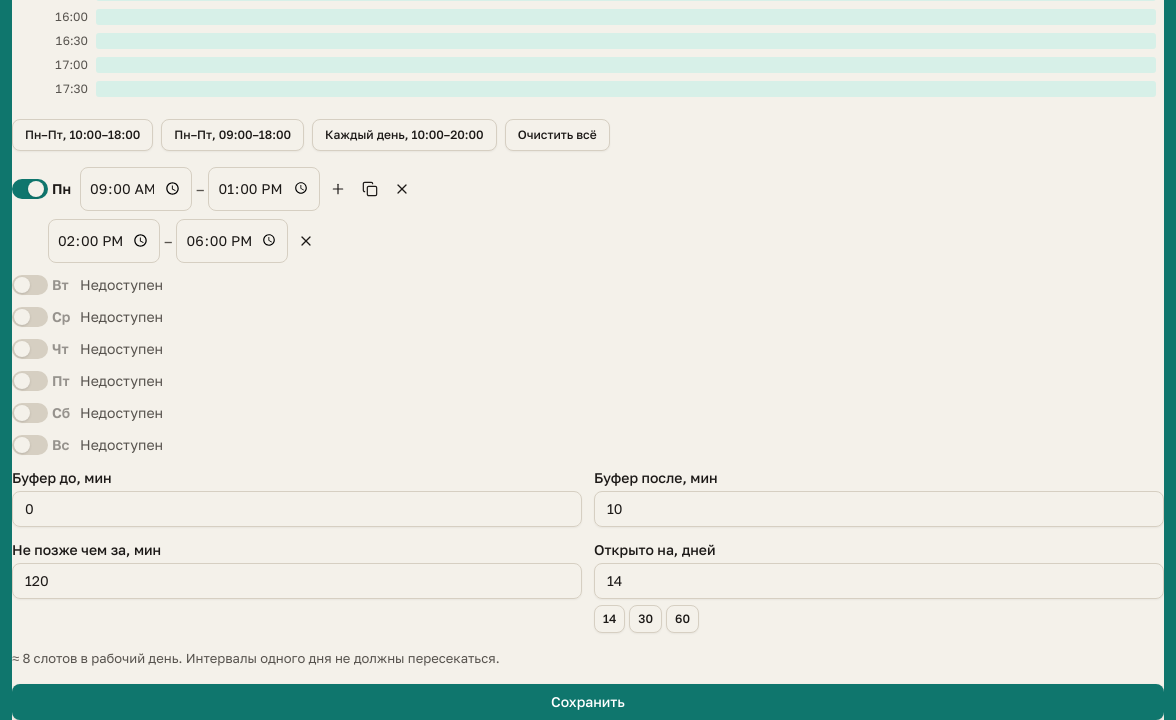
AvailabilitySettingsForm › применяет пресет горизонта 30 дней
(page scrolled)
Step 1. Click the button "30" → [646, 618], box [629,604,662,632]
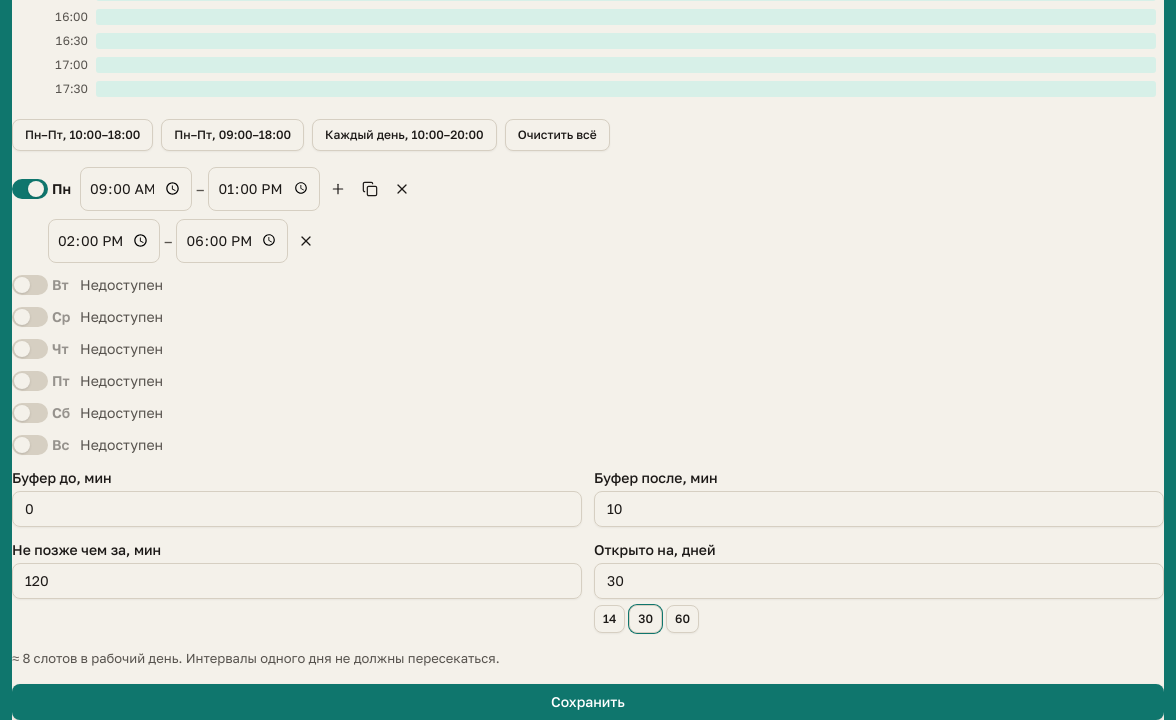
Check: the number field labelled "Открыто на, дней" holds "30", box [594,562,1164,598]
